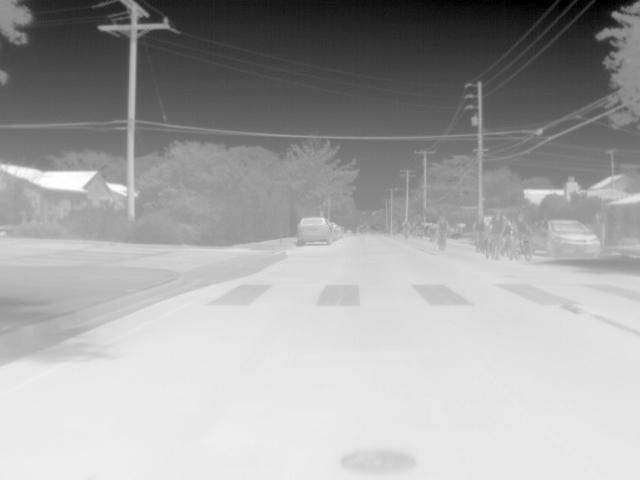car: (528, 216, 602, 258), (297, 213, 334, 246)
person: (488, 207, 512, 240), (512, 210, 534, 238), (435, 214, 452, 244), (471, 214, 487, 241), (401, 218, 413, 236)
